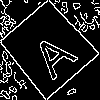A: (23, 24, 79, 80)
